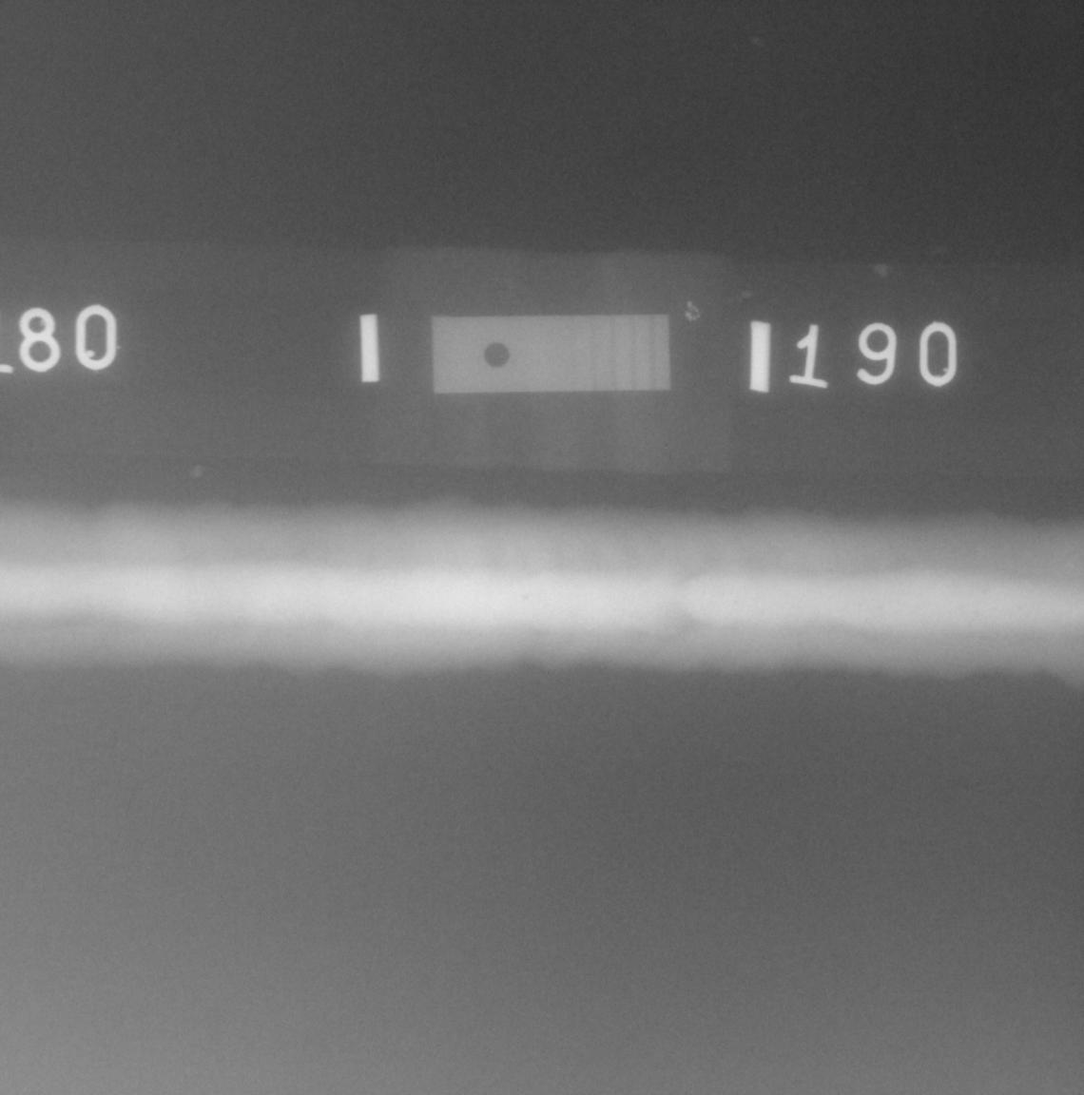Pore/Porosity: (522, 595, 528, 601), (974, 611, 979, 616), (984, 590, 988, 594), (733, 601, 738, 604), (877, 608, 882, 611), (747, 557, 751, 560), (752, 598, 755, 601)
Reference Standard 1: (432, 314, 670, 393)
